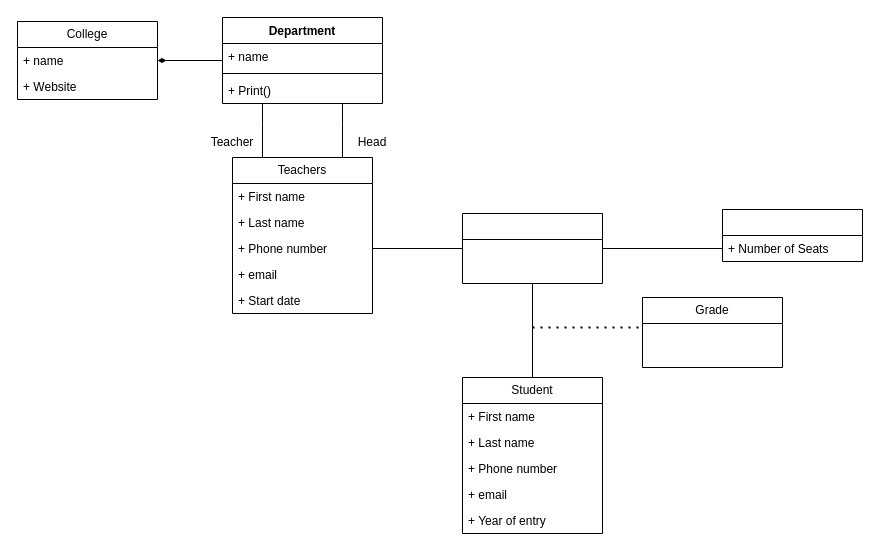
Some shapes in this 880 by 554 pixel diagram are drawn without their labels. The shapes that lost their labels are listed below. From the top down, each one's box as (x1, y1, x2, y2) in pixels, then its label:
(462, 212, 602, 284): Subject
(722, 208, 862, 262): Classroom
